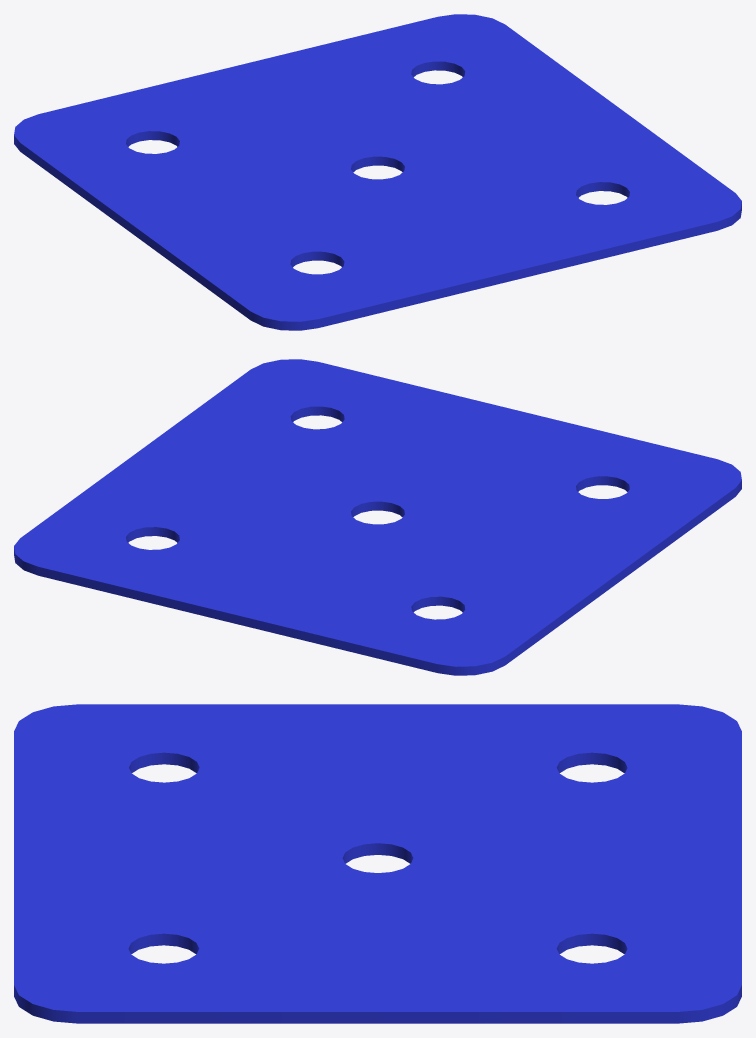
Rendered from square.fbx.
3 views of the same model, one above another, from view 1: azimuth 30°, elevation 25°; view 2: azimuth 150°, elevation 25°; view 3: azimuth 270°, elevation 25° (orthographic). The views are drawn at different scales.
Parts seen in each view (by area): view 1: square; view 2: square; view 3: square.
Boxes of the visible parts, box(x1,y1,x2,y2) form: square: box(14, 14, 741, 330); square: box(14, 359, 741, 675); square: box(14, 704, 741, 1023).
Bounding box in the file's own units: 1.7 × 0.03 × 1.7.
